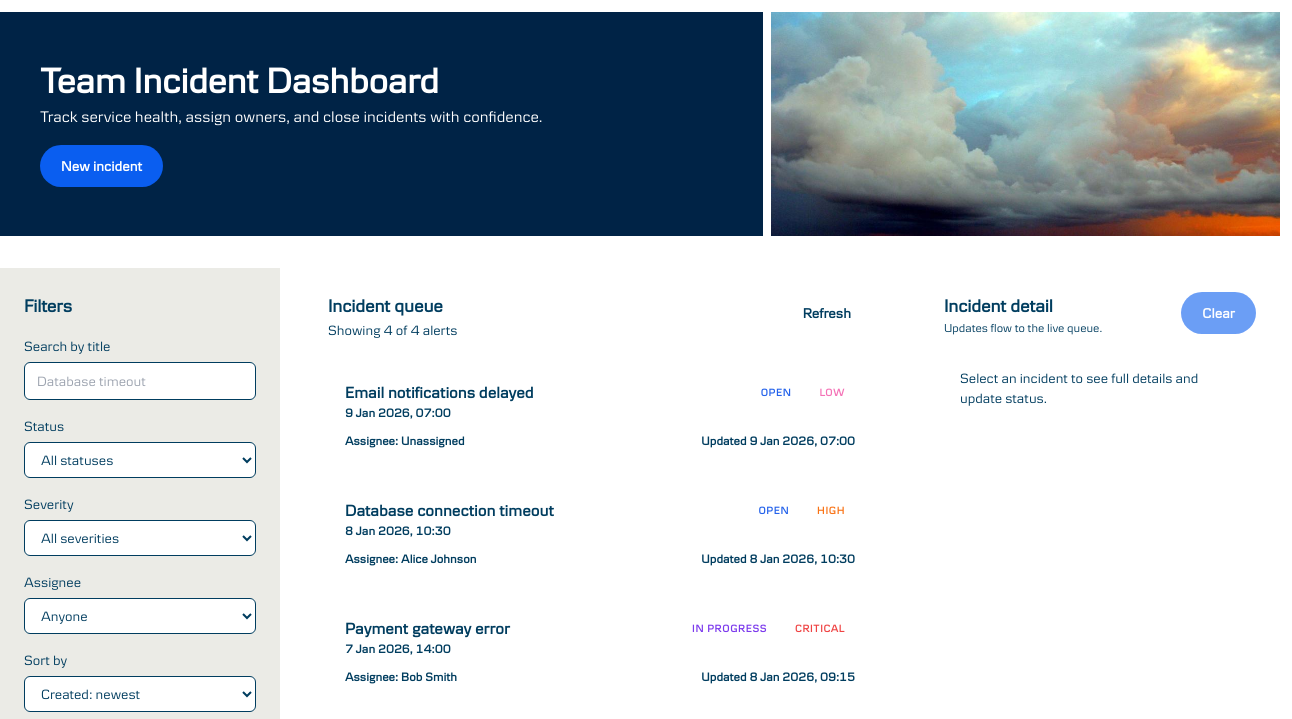
Test: IncidentDashboard › filters incidents by status
This screenshot has width=1292, height=719.
Expected: the heading "Database connection timeout" is shown, top-left (345, 499), bottom-right (554, 523)
Select "Resolved" in the dropdown labelled "Status" at (140, 460), box top-left (24, 442), bottom-right (256, 478)
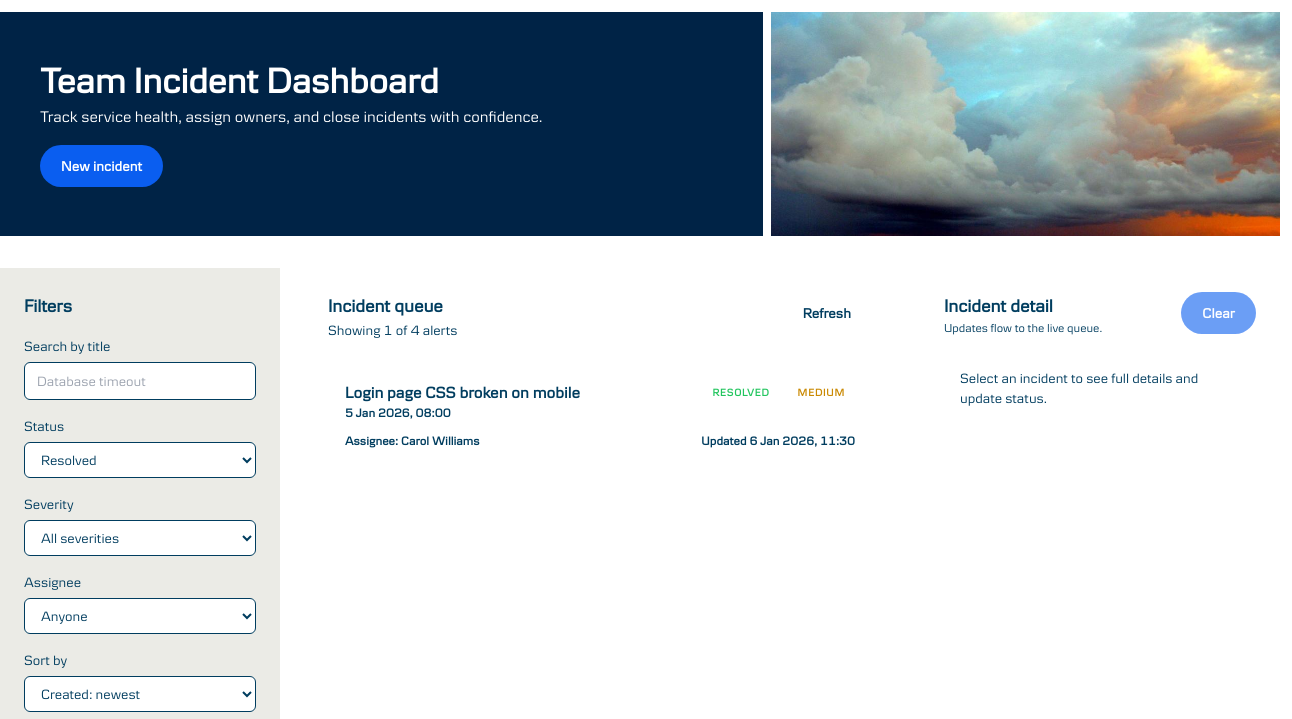
Expected: the heading "Login page CSS broken on mobile" is shown, top-left (345, 381), bottom-right (580, 405)
Expected: the button "Payment gateway error" is gone
